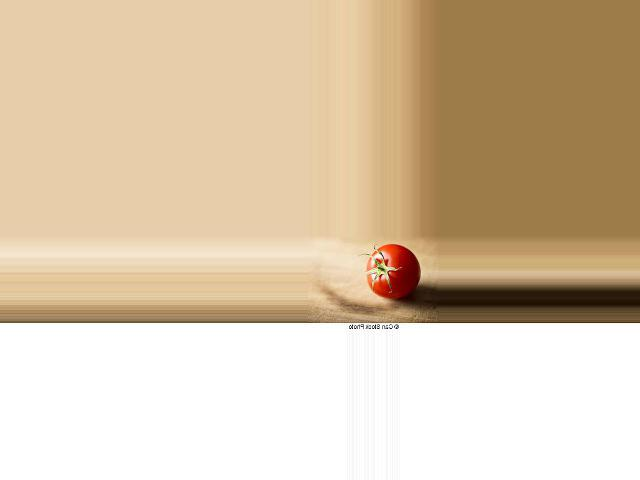tomato: (365, 245, 419, 298)
